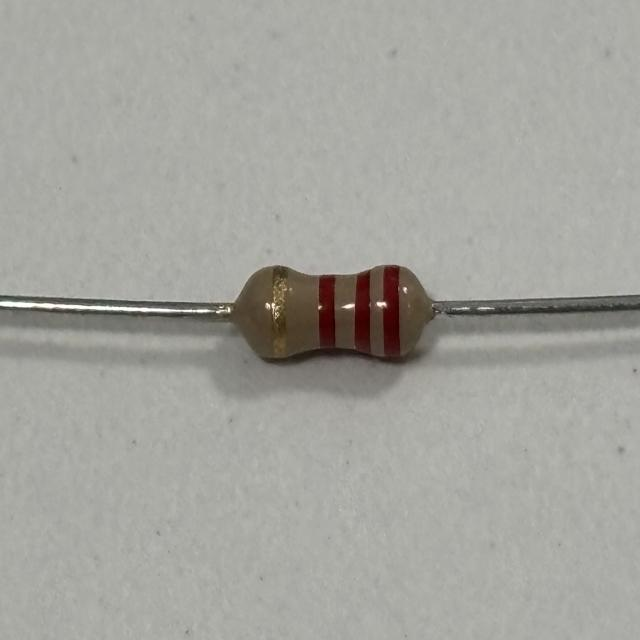resistor: (255, 263, 419, 359)
